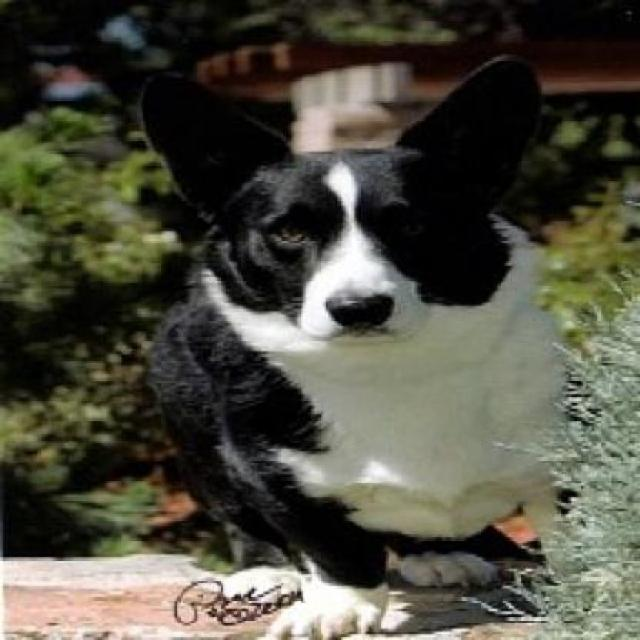Dog: (137, 56, 575, 638)
